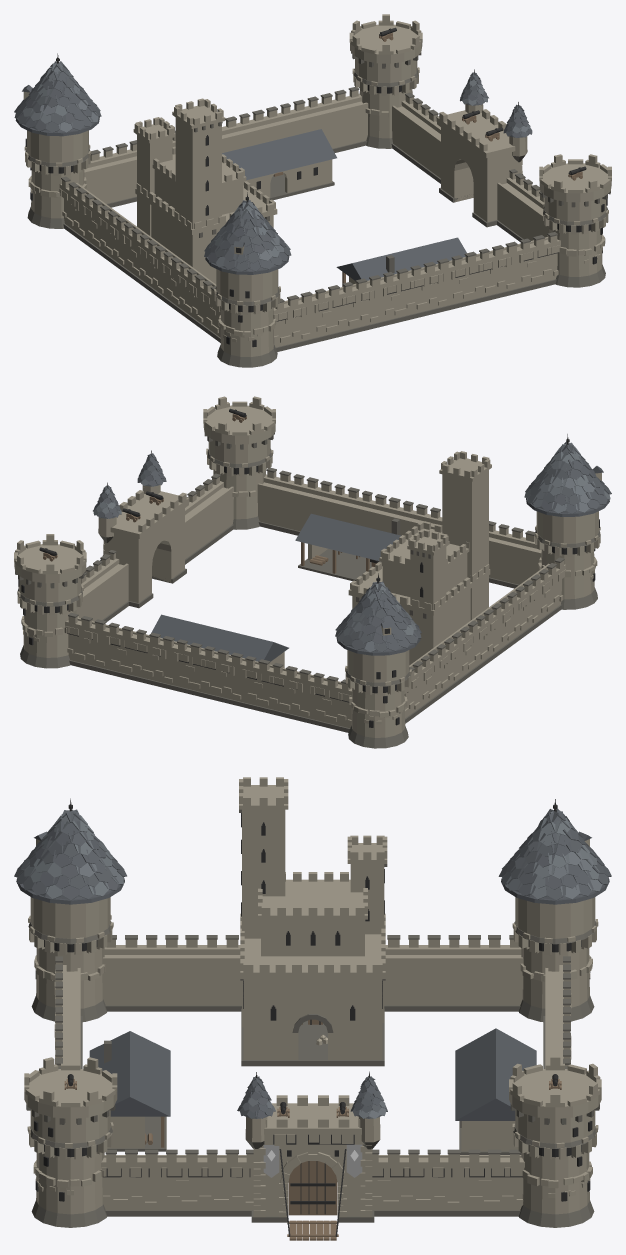
The model's file is castle_assembled.fbx.
3 renders of one model, top to bottom at view 1: azimuth 30°, elevation 25°; view 2: azimuth 150°, elevation 25°; view 3: azimuth 270°, elevation 25°, orthographic. The views are drawn at different scales.
Parts seen in each view (by area): view 1: A_Keep, A_Tower_RS, A_Tower_RN, A_Gate, A_Tower_FS, A_Tower_FN, A_Barracks, A_Wall_S3, A_Wall_S4, A_Wall_S2, A_Workshop, A_Wall_F4 (+14 smaller); view 2: A_Keep, A_Tower_RN, A_Tower_RS, A_Gate, A_Tower_FN, A_Tower_FS, A_Workshop, A_Wall_N3, A_Wall_N2, A_Wall_N4, A_Barracks, A_Wall_S4 (+14 smaller); view 3: A_Keep, A_Tower_RS, A_Tower_RN, A_Gate, A_Tower_FS, A_Tower_FN, A_Barracks, A_Workshop, A_Wall_F2, A_Wall_F4, A_Wall_R4, A_Wall_R2 (+11 smaller).
Part boxes in pixels (x1,y1,x2,y2): A_Keep: (133, 98, 277, 284); A_Tower_RS: (204, 192, 291, 367); A_Tower_RN: (14, 53, 101, 228); A_Gate: (436, 69, 532, 227); A_Tower_FS: (539, 154, 611, 287); A_Tower_FN: (349, 14, 422, 148); A_Barracks: (222, 129, 336, 200); A_Wall_S3: (380, 258, 451, 326); A_Wall_S4: (448, 241, 519, 309); A_Wall_S2: (312, 275, 383, 342); A_Workshop: (336, 237, 466, 286); A_Wall_F4: (497, 169, 544, 241); A_Keep: (348, 451, 491, 665); A_Tower_RN: (335, 573, 421, 748); A_Tower_RS: (524, 434, 611, 609); A_Gate: (93, 450, 189, 608); A_Tower_FN: (14, 534, 86, 668); A_Tower_FS: (203, 396, 275, 529); A_Workshop: (295, 513, 401, 580); A_Wall_N3: (174, 639, 246, 707); A_Wall_N2: (242, 656, 314, 723); A_Wall_N4: (106, 622, 177, 690); A_Barracks: (151, 614, 288, 667); A_Wall_S4: (296, 477, 374, 535); A_Keep: (239, 777, 387, 1066); A_Tower_RS: (14, 798, 126, 1021); A_Tower_RN: (498, 799, 611, 1021); A_Gate: (237, 1071, 387, 1240); A_Tower_FS: (24, 1057, 117, 1227); A_Tower_FN: (509, 1055, 601, 1227); A_Barracks: (455, 1028, 536, 1154); A_Workshop: (89, 1031, 170, 1151); A_Wall_F2: (372, 1149, 464, 1216); A_Wall_F4: (161, 1149, 253, 1216); A_Wall_R4: (161, 935, 241, 1011); A_Wall_R2: (384, 935, 464, 1011).
Size of the model in its own units: 123 by 52.6 by 121.
